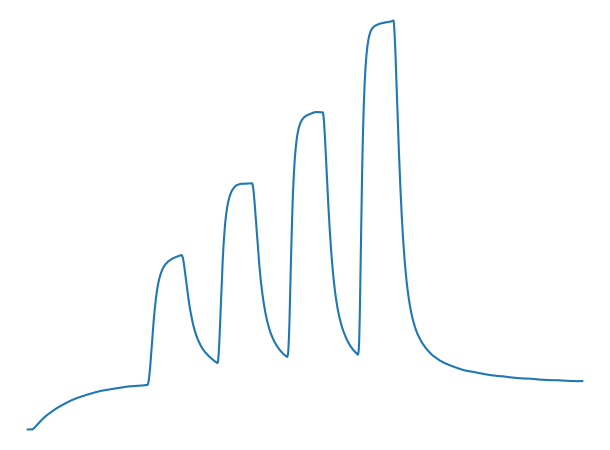decrease: (173, 249, 189, 265), (382, 15, 398, 31), (242, 178, 258, 193), (313, 105, 329, 120)
increase: (29, 417, 46, 435), (137, 374, 155, 390), (352, 335, 364, 359), (280, 339, 293, 361), (210, 350, 223, 368)
